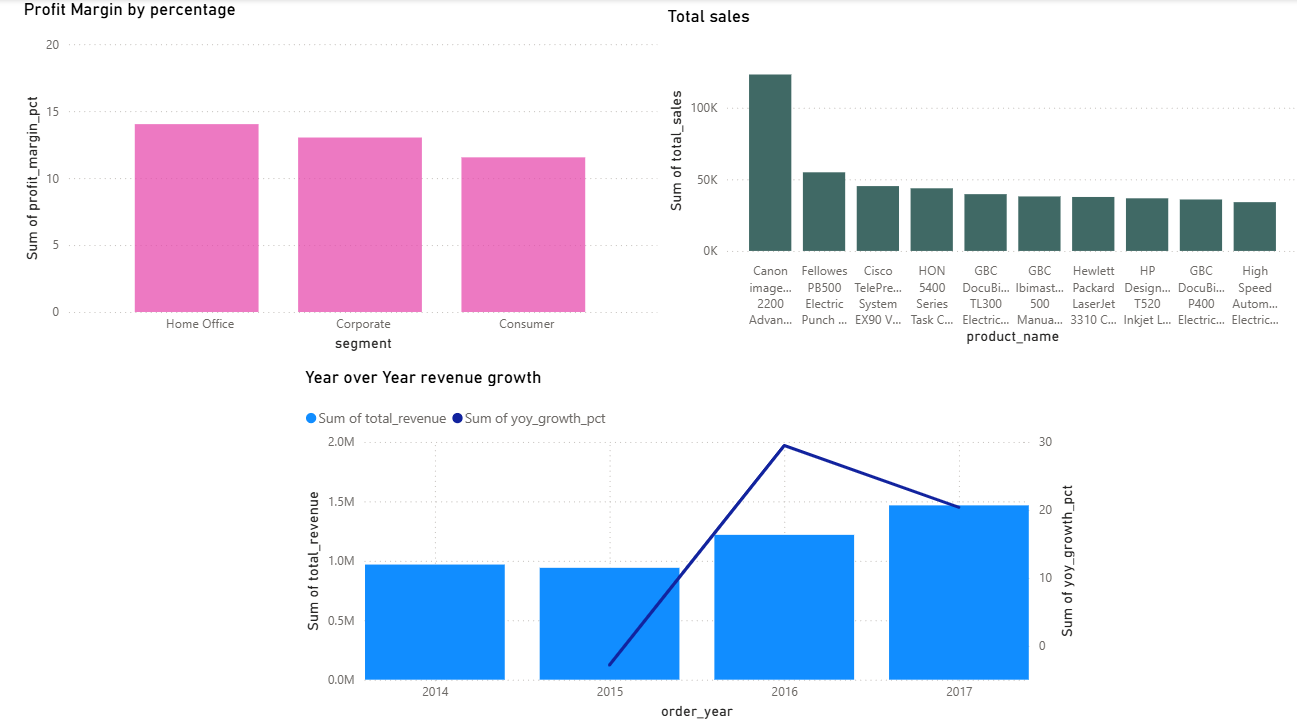

Layout of this report page (visuals, bound fields, positions):
{"tool":"powerbi","page":{"name":"Trends","canvas":[1280,720],"ordinal":2},"visuals":[{"type":"clusteredColumnChart","title":"Profit Margin by percentage","fields":{"Y":["Sum(customer_segments.profit_margin_pct)"],"Category":["customer_segments.segment"]},"box":[22.9,0,630,350],"z":0},{"type":"lineClusteredColumnComboChart","title":"Year over Year revenue growth","fields":{"Category":["yoy_growth.order_year"],"Y":["Sum(yoy_growth.total_revenue)"],"Y2":["Sum(yoy_growth.yoy_growth_pct)"]},"box":[297.8,359.5,763,349.9],"z":1000},{"type":"clusteredColumnChart","fields":{"Category":["customer_segments.segment"],"Y":["Sum(customer_segments.total_revenue)"]},"box":[652.9,5.7,627.1,337.1],"z":2000}]}

Visuals, with their boxes in screenshot pixels (x1, y1, x2, y2), scaled from the page's 1280x720 canvas onto the 1297x722 screenshot:
"Profit Margin by percentage" clusteredColumnChart: [23, 0, 662, 351]
"Year over Year revenue growth" lineClusteredColumnComboChart: [302, 360, 1075, 711]
clusteredColumnChart - customer_segments.segment x Sum(customer_segments.total_revenue): [662, 6, 1296, 344]
